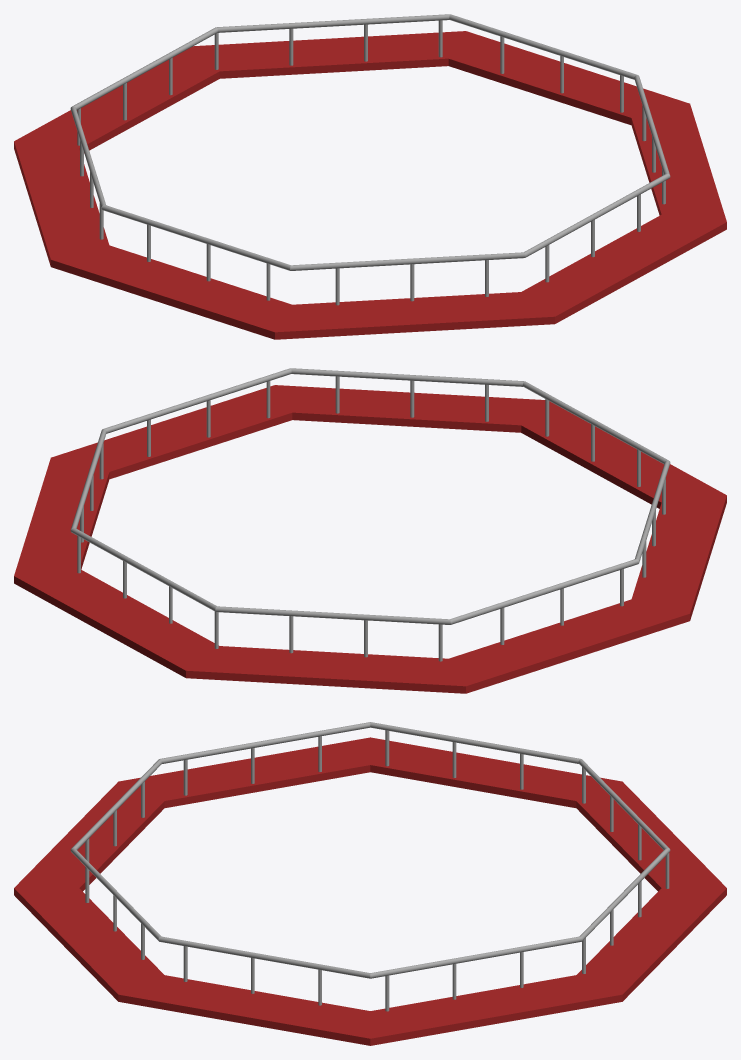
Rendered from Simple Balcony v2 SP.fbx.
3 renders of one model, top to bottom at view 1: azimuth 30°, elevation 25°; view 2: azimuth 150°, elevation 25°; view 3: azimuth 270°, elevation 25°, orthographic. The views are drawn at different scales.
Parts seen in each view (by area): view 1: Railing_Columns1; view 2: Railing_Columns1; view 3: Railing_Columns1.
Boxes of the visible parts, <box> form: Railing_Columns1: <box>14,14,726,339</box>; Railing_Columns1: <box>14,368,726,693</box>; Railing_Columns1: <box>14,722,726,1045</box>.
Bounding box in the file's own units: 30 × 2.21 × 30.
